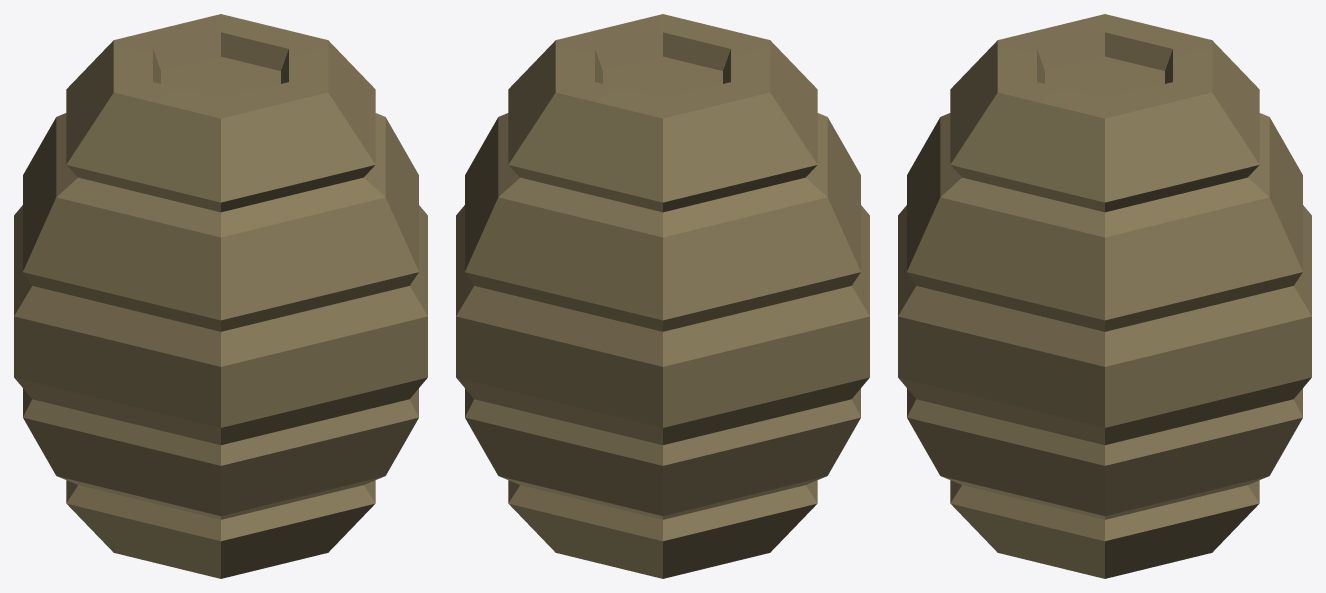
The model's file is Hive.fbx.
3 renders of one model, left to right at view 1: azimuth 30°, elevation 25°; view 2: azimuth 150°, elevation 25°; view 3: azimuth 270°, elevation 25°, orthographic.
Parts seen in each view (by area): view 1: pCylinder1; view 2: pCylinder1; view 3: pCylinder1.
Boxes of the visible parts, x1=… form: pCylinder1: x1=14, y1=14, x2=427, y2=578; pCylinder1: x1=456, y1=14, x2=869, y2=578; pCylinder1: x1=898, y1=14, x2=1311, y2=578.
Size of the model in its own units: 1.91 by 2.03 by 1.65.
